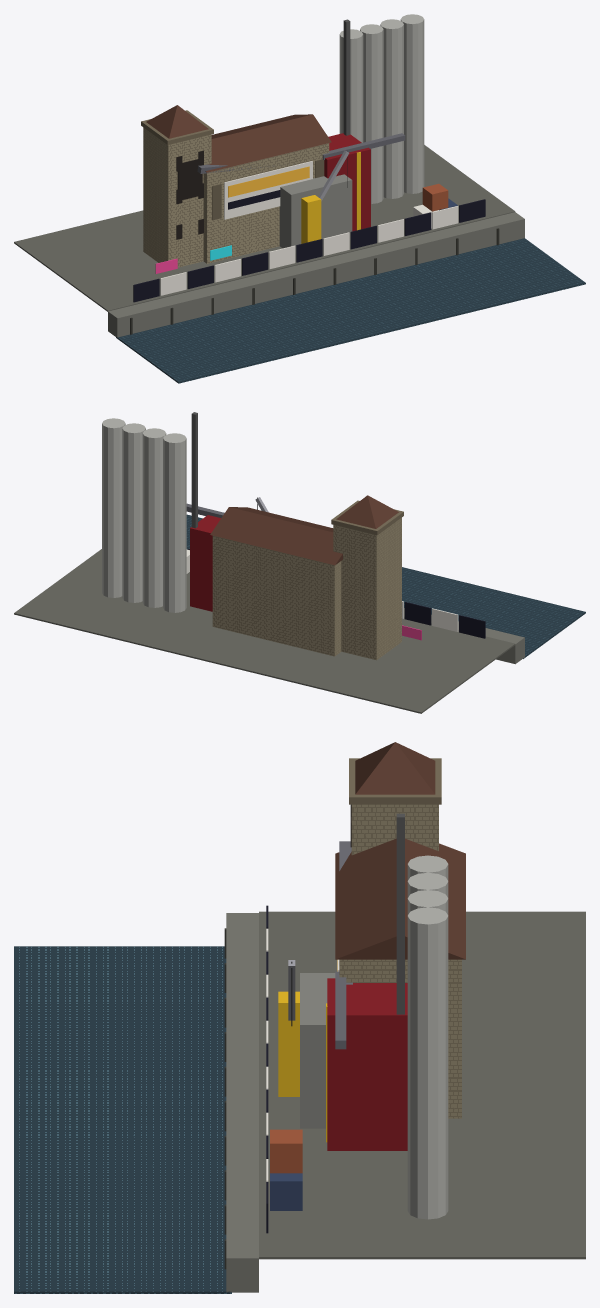
File: decor_port_rhin.glb
3 renders of one model, top to bottom at view 1: azimuth 30°, elevation 25°; view 2: azimuth 150°, elevation 25°; view 3: azimuth 270°, elevation 25°, orthographic. The views are drawn at different scales.
Parts seen in each view (by area): view 1: p_box, p_box.012, p_box.001, p_box.013, p_box.022, p_prism, p_cyl.003, p_cyl.002, p_box.035, p_cyl.001, p_box.033, p_cyl (+22 smaller); view 2: p_box.012, p_box.022, p_box.013, p_box, p_prism, p_cyl, p_cyl.001, p_cyl.002, p_cyl.003, p_box.033, p_cone, p_box.032 (+5 smaller); view 3: p_box, p_box.012, p_cyl.003, p_box.033, p_box.001, p_prism, p_box.035, p_box.022, p_cone, p_box.013, p_box.038, p_box.032 (+7 smaller).
Part boxes in pixels (box(x1,y1,x2,y2)): p_box: box(116, 238, 585, 383); p_box.012: box(14, 145, 515, 311); p_box.001: box(108, 212, 524, 337); p_box.013: box(143, 127, 211, 267); p_box.022: box(203, 143, 329, 263); p_prism: box(205, 114, 331, 172); p_cyl.003: box(400, 14, 424, 193); p_cyl.002: box(380, 19, 403, 198); p_box.035: box(279, 174, 352, 253); p_cyl.001: box(360, 24, 383, 203); p_box.033: box(324, 133, 370, 231); p_cyl: box(339, 29, 363, 142); p_box.012: box(14, 549, 515, 713); p_box.022: box(212, 535, 341, 656); p_box.013: box(333, 517, 401, 660); p_box: box(186, 514, 585, 658); p_prism: box(210, 507, 342, 565); p_cyl: box(163, 433, 186, 612); p_cyl.001: box(142, 428, 166, 607); p_cyl.002: box(122, 423, 145, 602); p_cyl.003: box(102, 418, 125, 597); p_box.033: box(190, 515, 220, 611); p_cone: box(336, 495, 398, 528); p_box.032: box(191, 412, 197, 528); p_box: box(14, 946, 231, 1293); p_box.012: box(259, 911, 585, 1259); p_cyl.003: box(407, 907, 448, 1219); p_box.033: box(327, 978, 407, 1150); p_box.001: box(226, 913, 258, 1292); p_prism: box(335, 838, 465, 959); p_box.035: box(300, 973, 335, 1128); p_box.022: box(339, 959, 461, 1118); p_cone: box(355, 742, 435, 794); p_box.013: box(351, 804, 438, 855); p_box.038: box(278, 991, 299, 1096); p_box.032: box(396, 813, 404, 1014).
Size of the model in its own units: 30 by 15 by 21.
Materials: 26 (2 with a texture image).
